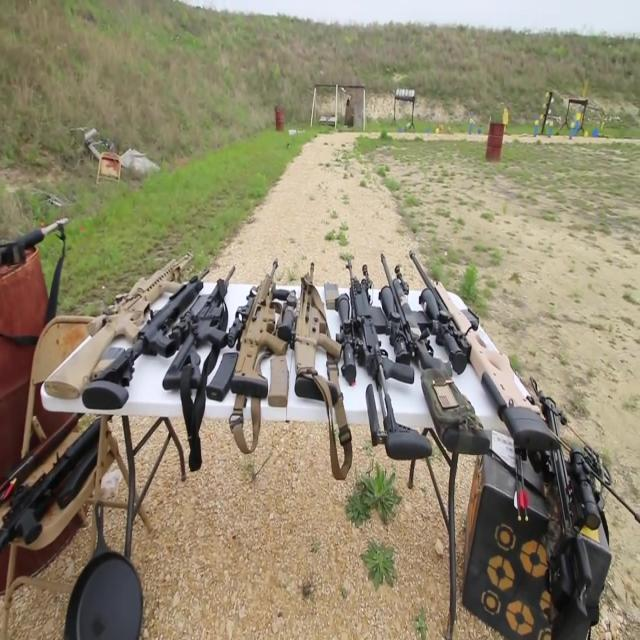Weapon: (0, 184, 625, 624)
